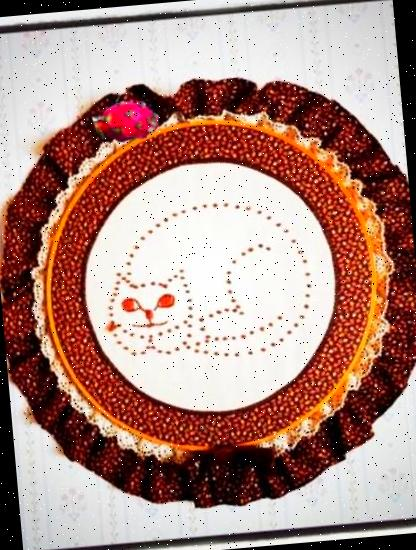Pitahaya: (92, 84, 160, 153)
